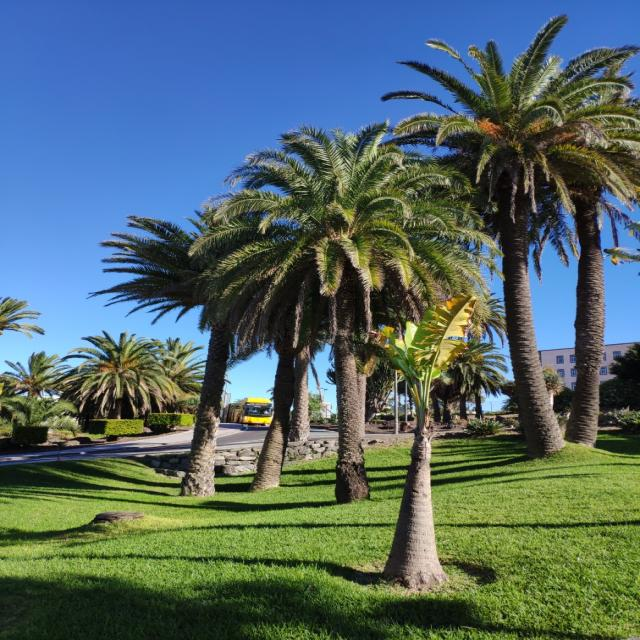Palm-Trees: (398, 32, 632, 452), (232, 132, 461, 500), (131, 206, 302, 484), (78, 332, 168, 416)
